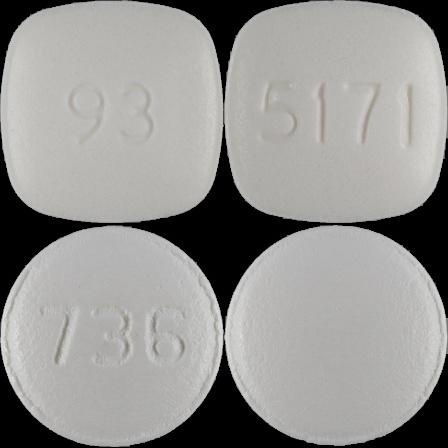63187-175: (0, 0, 224, 224)
